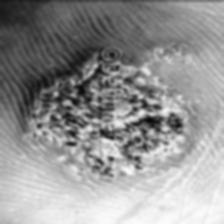Toxin: (28, 43, 197, 177)
